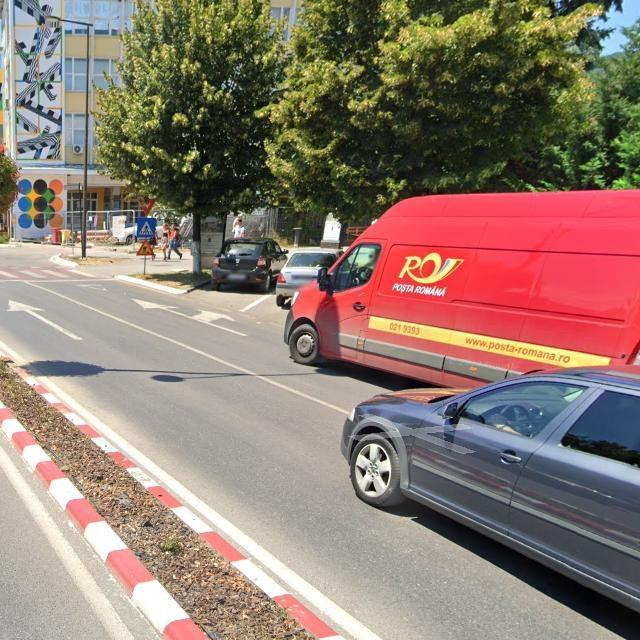info_crosswalk: (137, 218, 157, 238)
prio_give_way: (138, 199, 157, 216)
